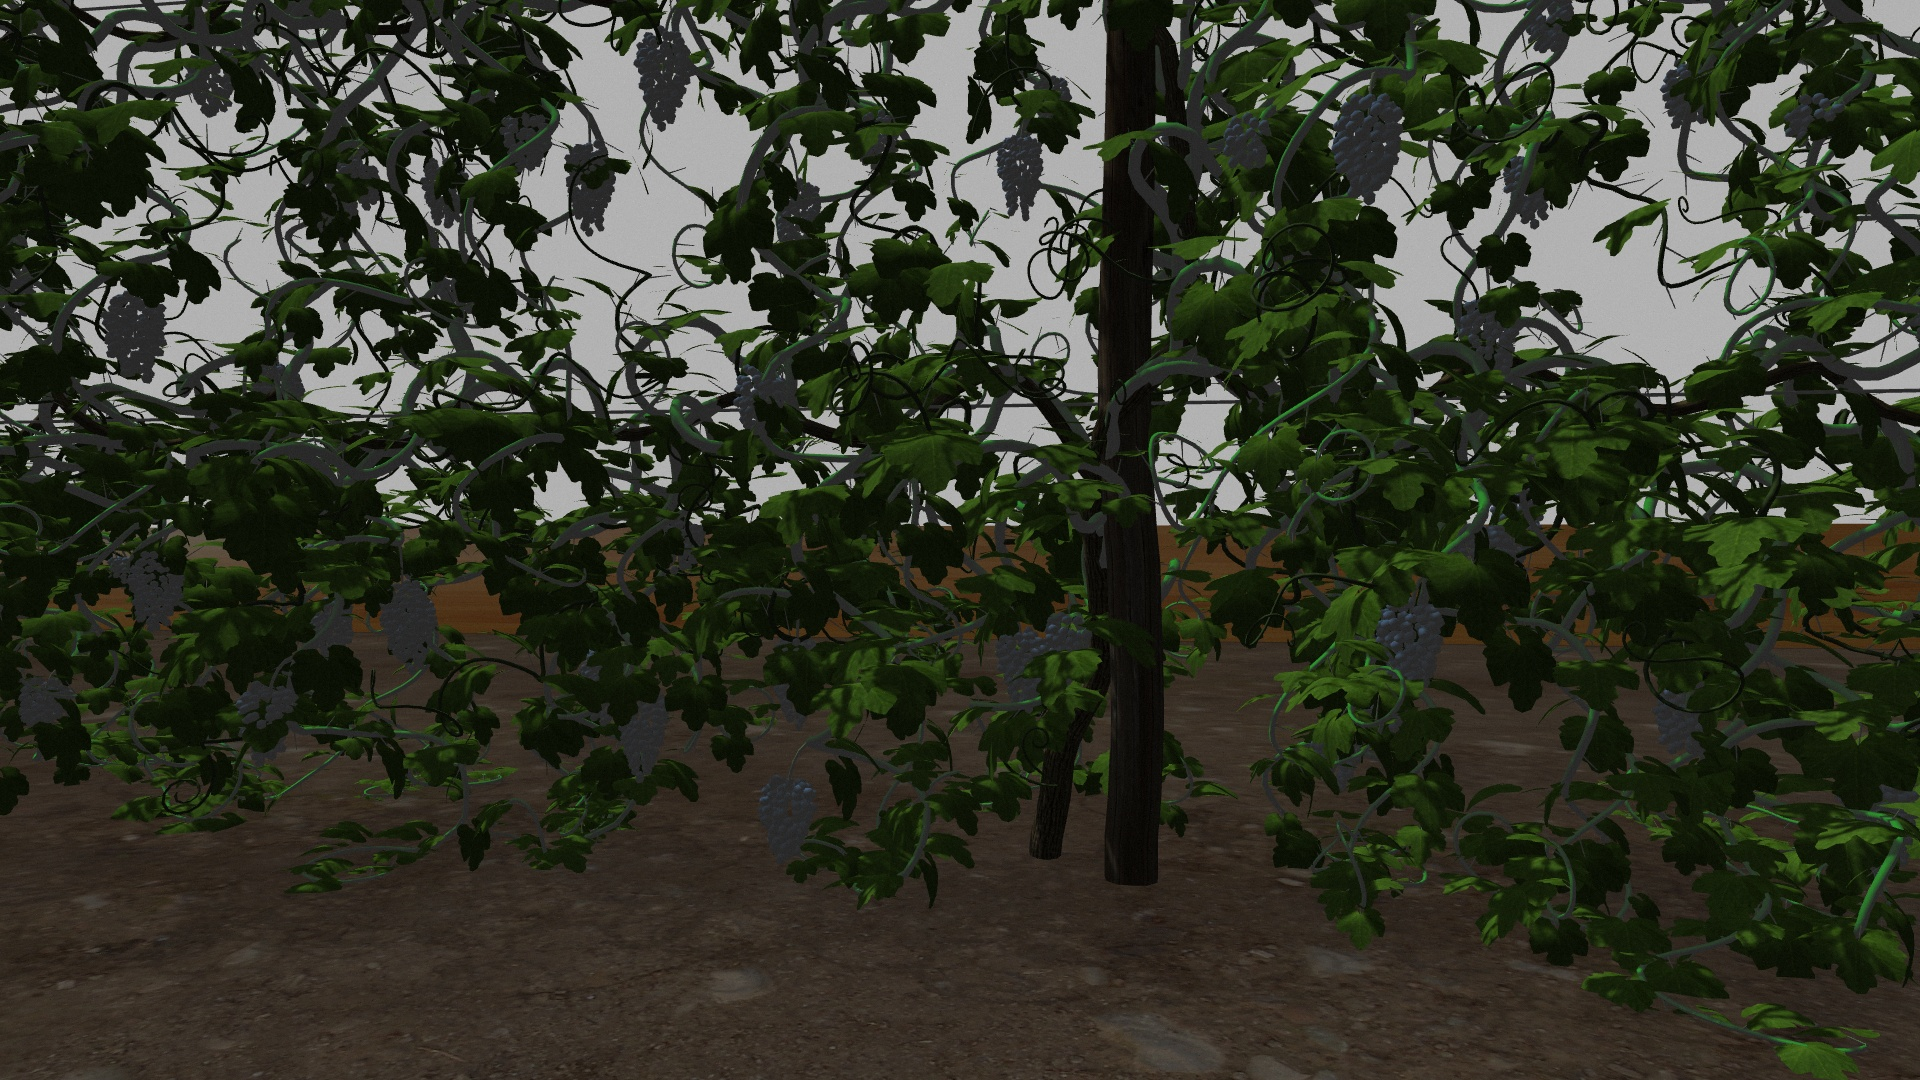grape: (1333, 91, 1403, 204), (102, 287, 169, 384), (632, 32, 691, 135), (380, 578, 440, 671), (1379, 601, 1444, 688), (758, 775, 818, 865), (563, 142, 617, 237), (1458, 297, 1522, 373), (127, 554, 185, 633), (618, 694, 669, 783), (996, 136, 1044, 223), (1651, 684, 1710, 756), (731, 365, 789, 433), (187, 51, 239, 120), (1503, 156, 1551, 229), (996, 632, 1044, 700), (775, 177, 822, 247), (502, 109, 553, 171), (17, 675, 74, 729), (1222, 115, 1273, 173), (1784, 92, 1844, 141), (243, 682, 299, 729), (1523, 4, 1575, 53), (1044, 613, 1093, 655)
